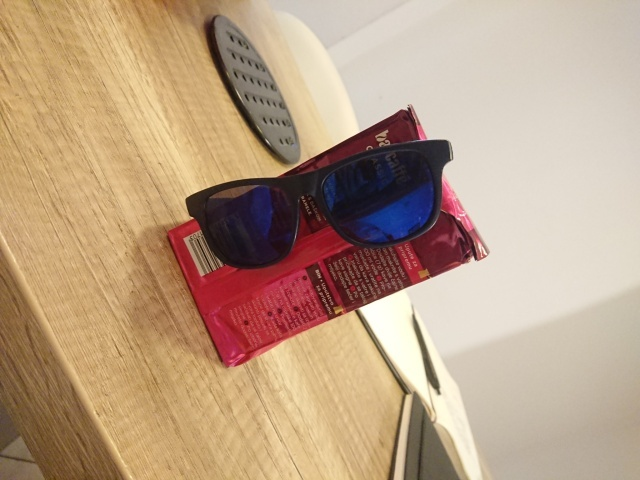Barcaffe Classic Original 225g: (163, 102, 494, 370)
